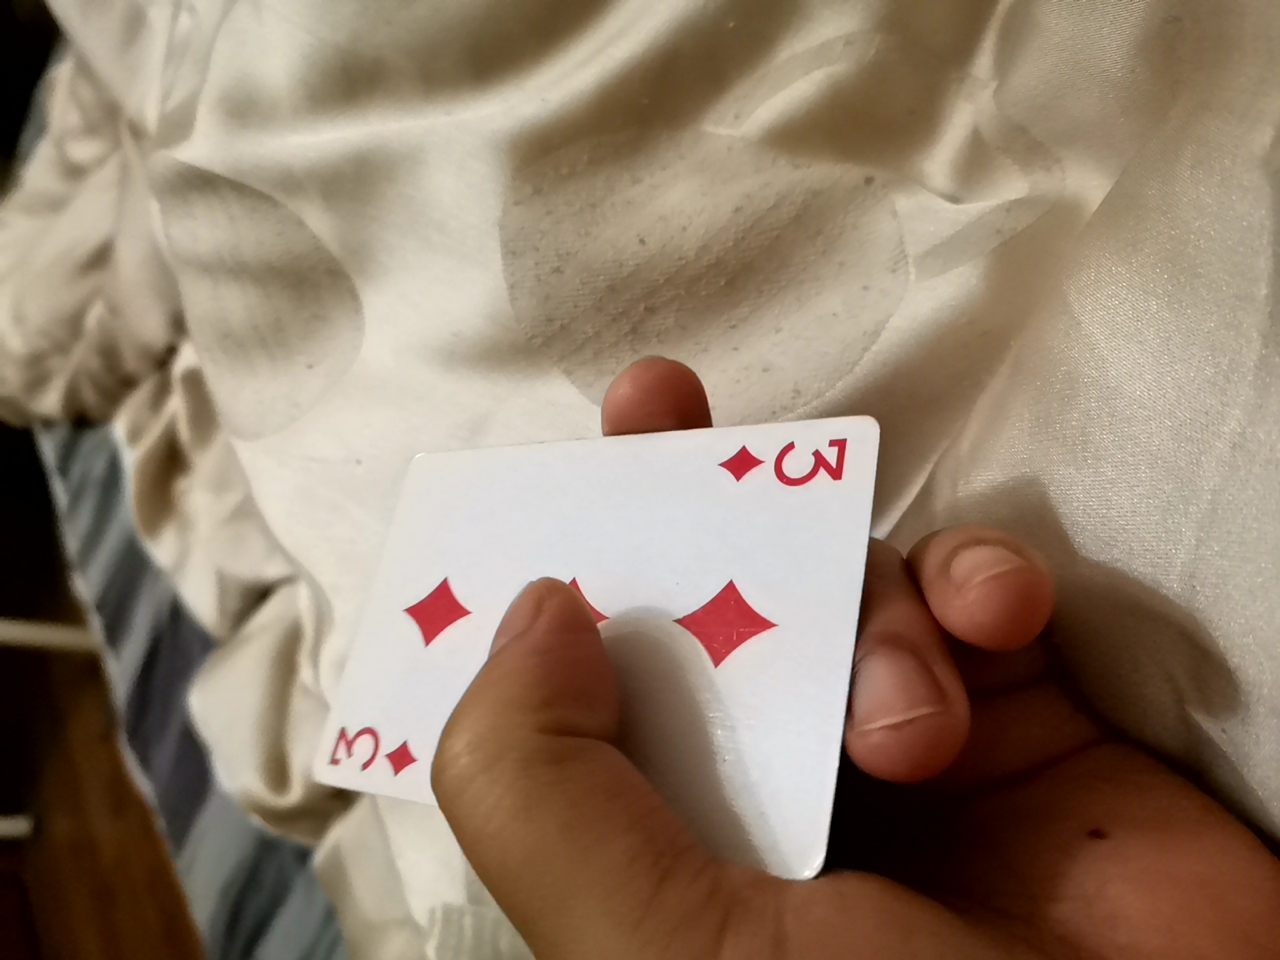fk 3: (231, 404, 884, 853)
